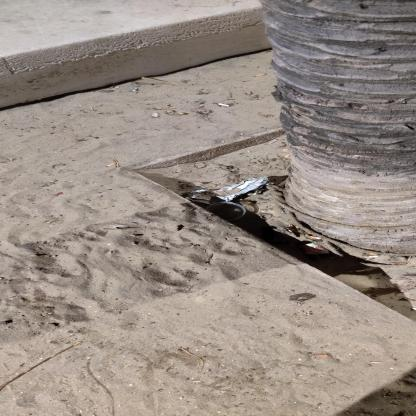kagit: (186, 178, 272, 206)
